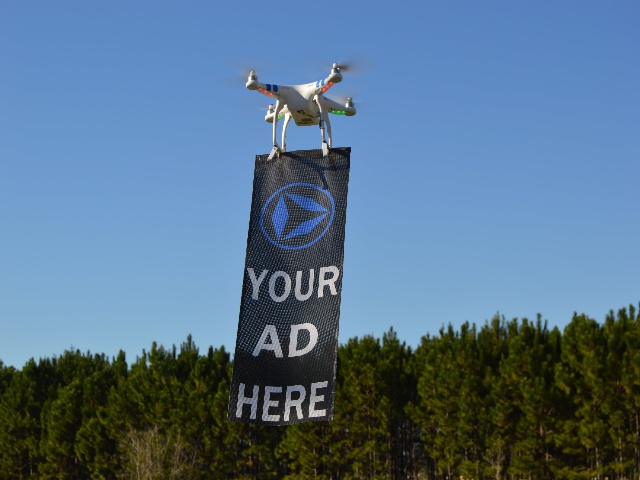drone: (233, 54, 367, 169)
